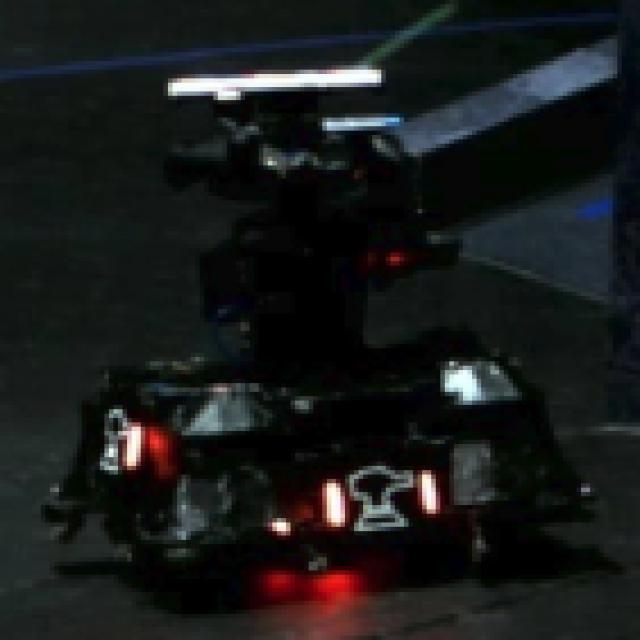Rs: (332, 474, 432, 522)
